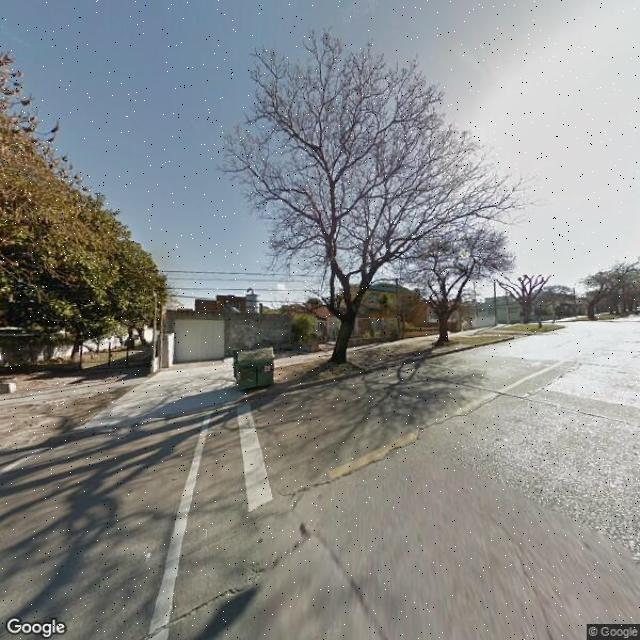garbage container: (225, 341, 281, 399)
